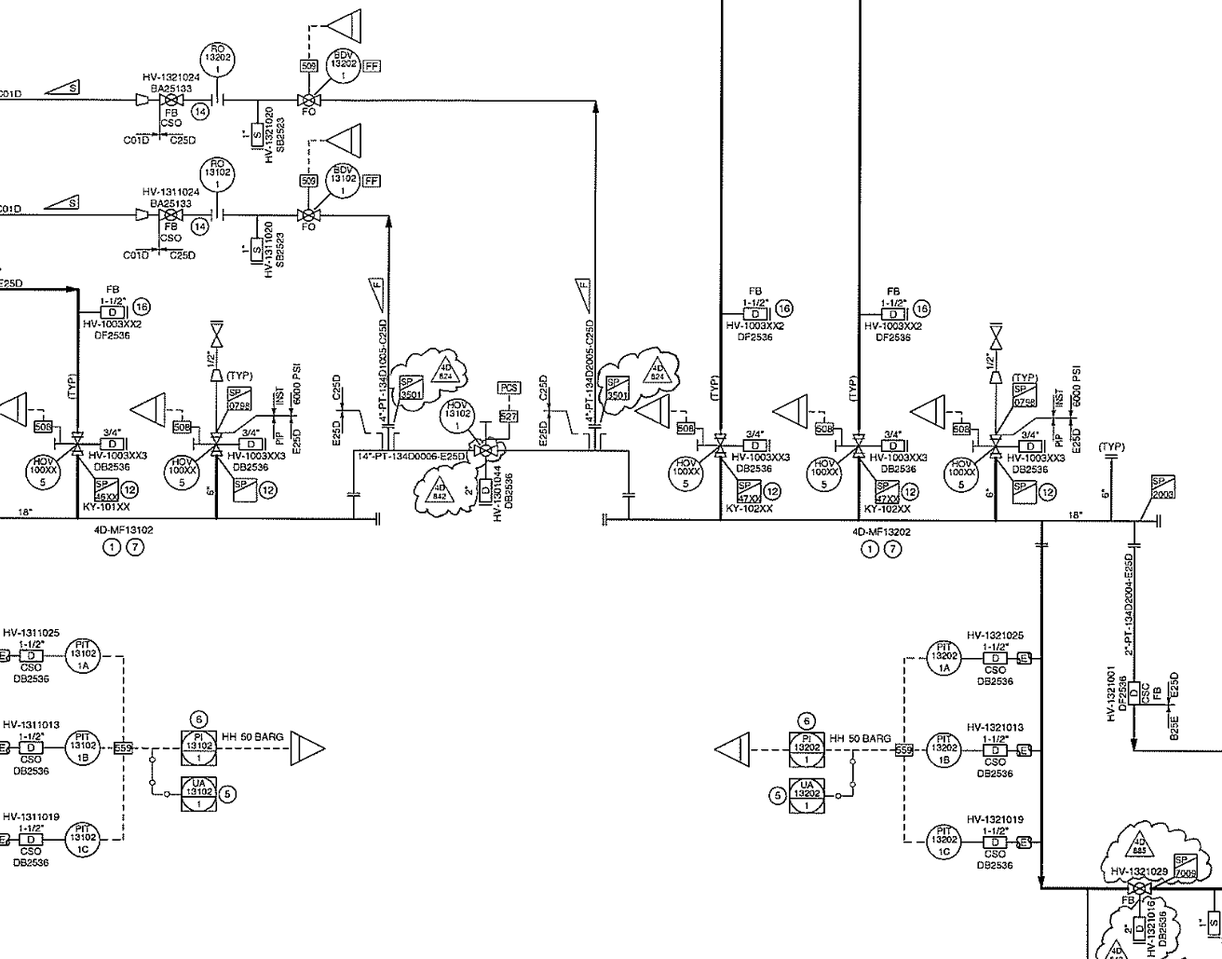Instrument: (798, 454, 849, 495), (22, 449, 64, 497), (925, 818, 967, 865), (61, 816, 103, 862), (196, 154, 242, 196), (62, 723, 103, 770), (664, 452, 707, 496), (197, 37, 238, 83), (941, 451, 981, 498), (924, 725, 964, 771), (923, 637, 966, 679), (61, 635, 104, 676), (160, 451, 202, 492), (321, 45, 363, 84), (322, 158, 360, 200), (438, 397, 477, 435)
Instrument-square: (174, 723, 224, 770), (784, 774, 830, 820), (175, 774, 223, 816), (784, 728, 829, 772)
